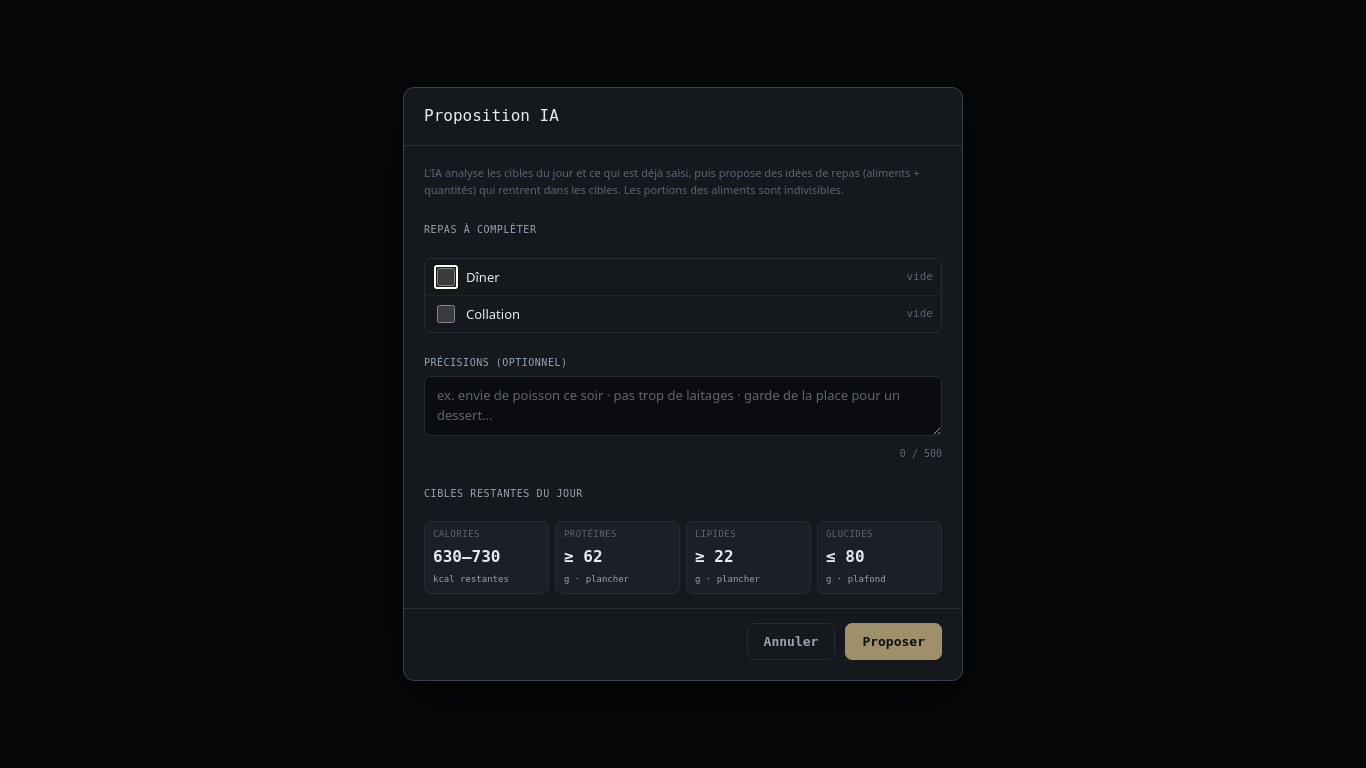
it: AiProposalsDialog — apply + regenerate (S12 / B-123) › applies a chosen proposal: one referenced entry per item to the right meal
The image size is (1366, 768).
Click the checkbox labelled "Dîner vide".
click(446, 277)  # box left=437, top=268, right=455, bottom=286
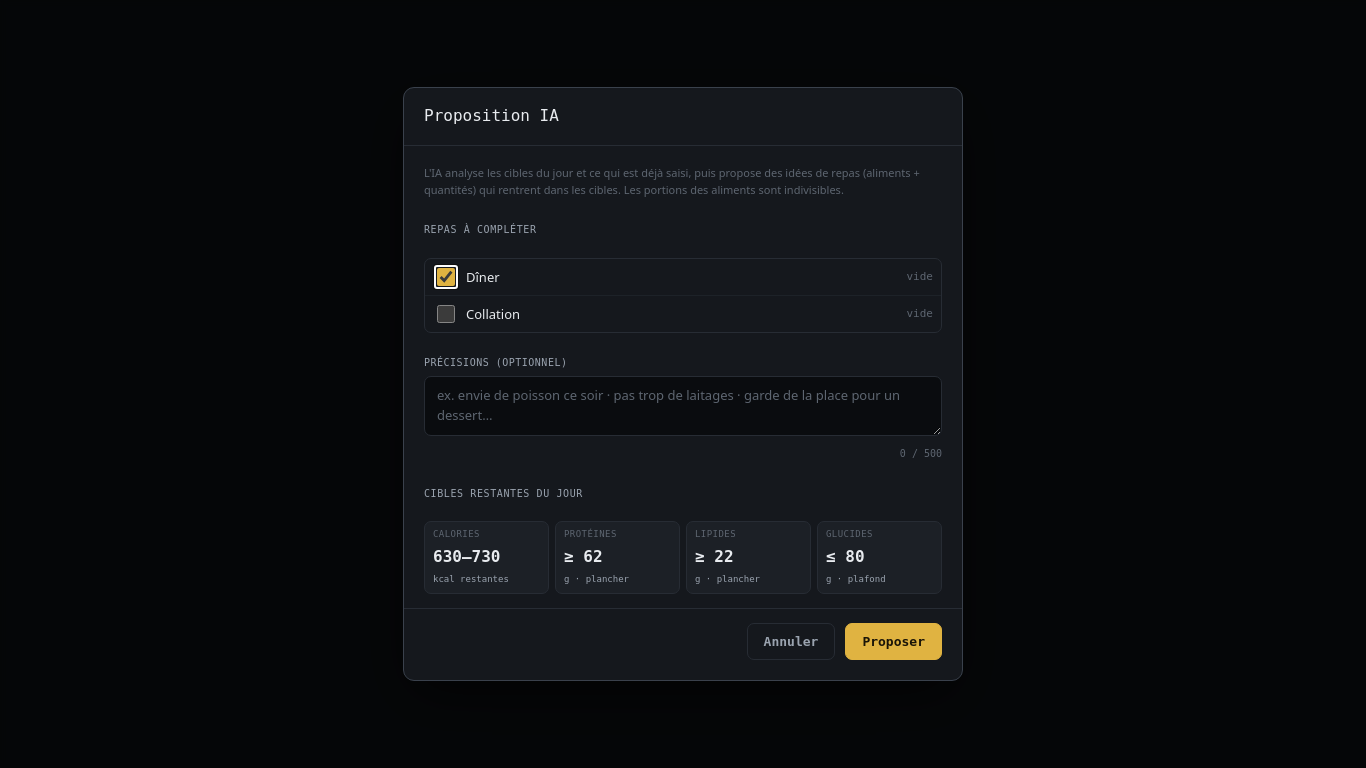
Click the button "Proposer".
click(894, 641)  # box left=845, top=623, right=942, bottom=660
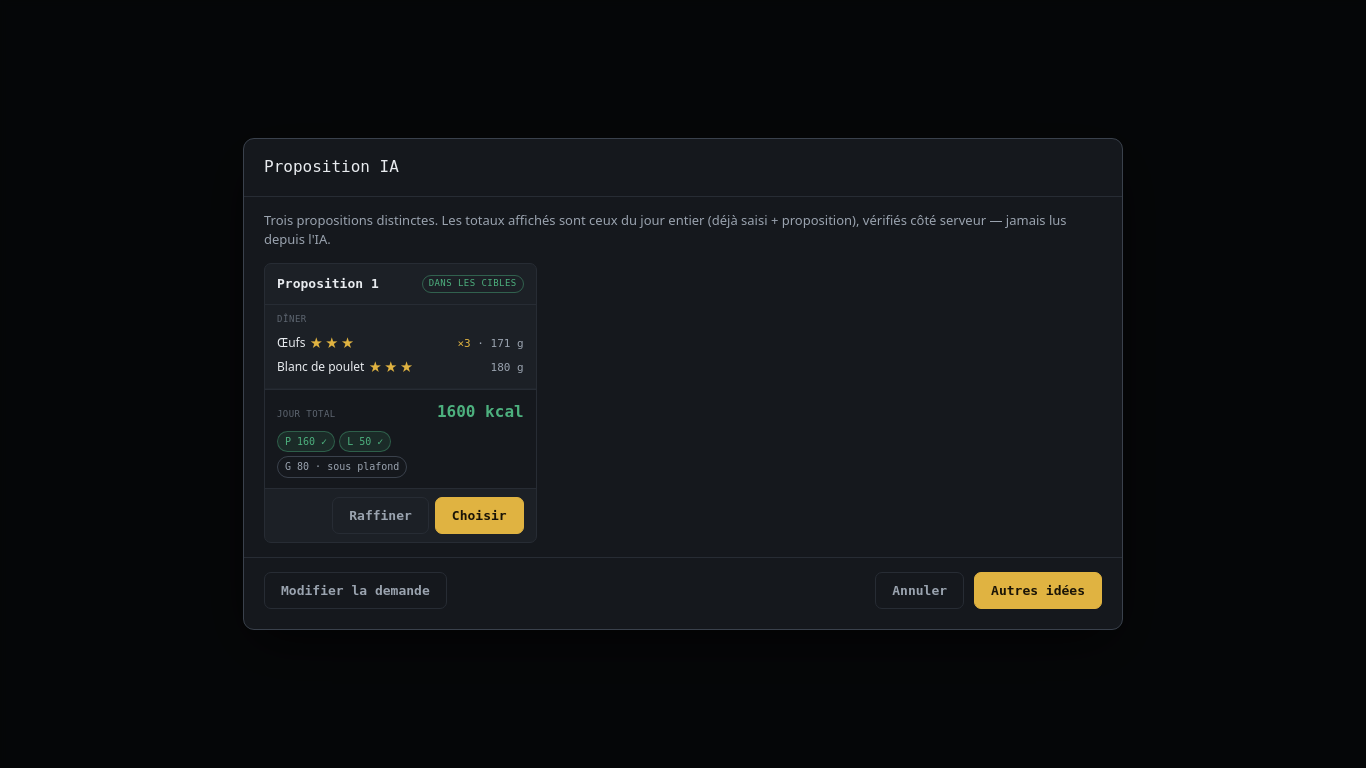
Click the button "Choisir".
click(479, 515)  # box left=435, top=497, right=524, bottom=534
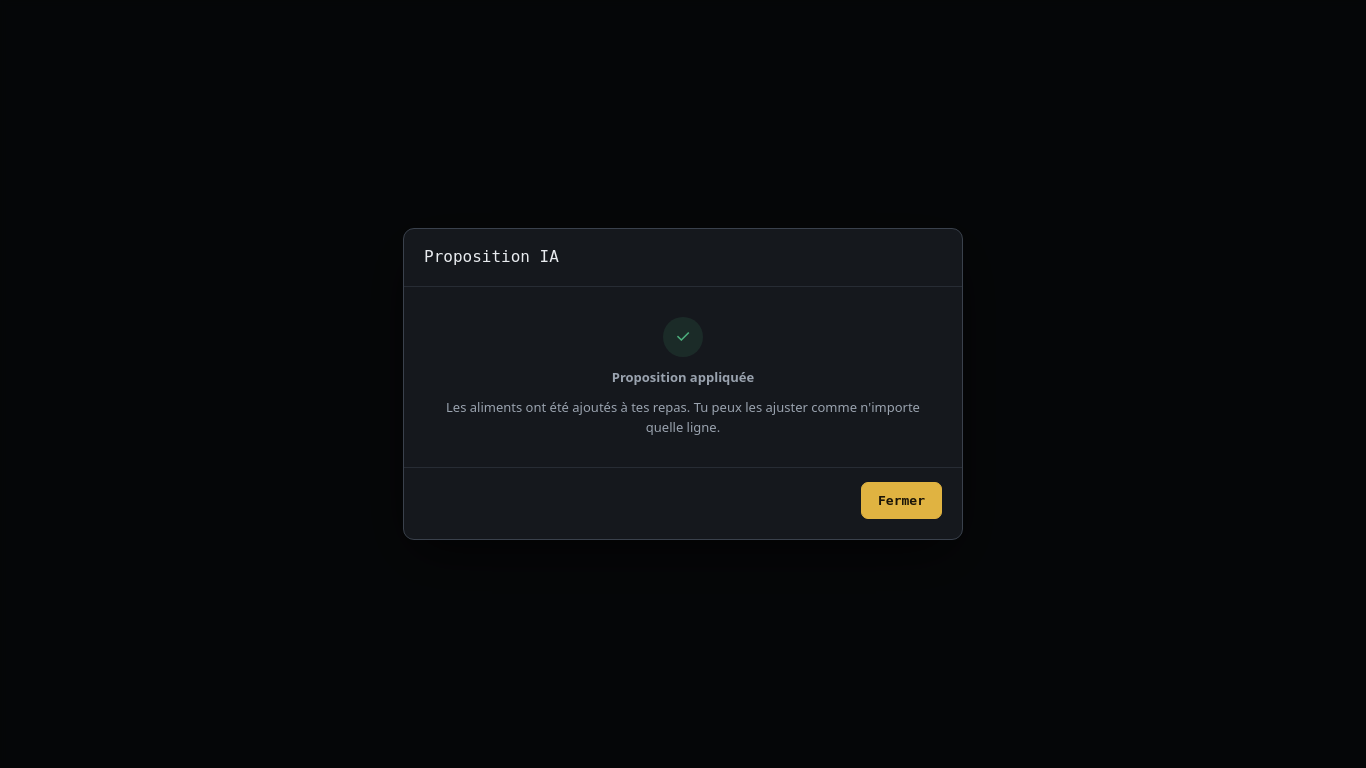
Expected: the text "Proposition appliquée" is shown, left=612, top=367, right=754, bottom=387
